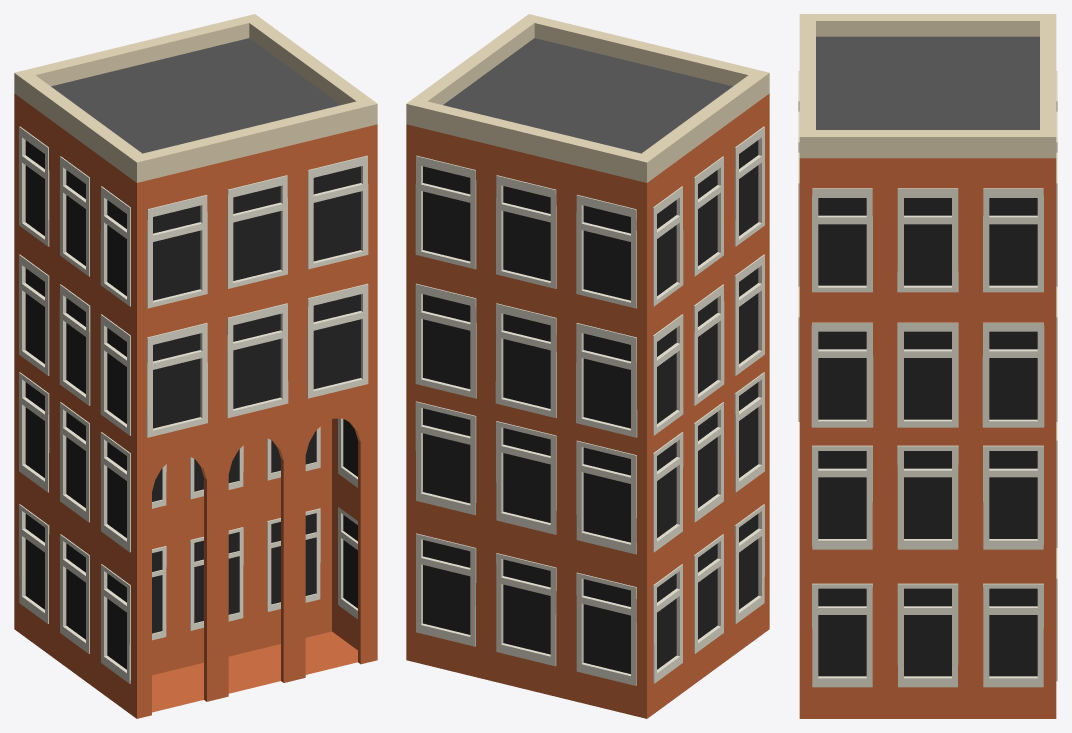
3 renders of one model, left to right at view 1: azimuth 30°, elevation 25°; view 2: azimuth 150°, elevation 25°; view 3: azimuth 270°, elevation 25°, orthographic. The views are drawn at different scales.
Visible parts, largest first — view 1: Palazzo1_struttura.001; view 2: Palazzo1_struttura.001; view 3: Palazzo1_struttura.001.
Part boxes in pixels (x1,y1,x2,y2): Palazzo1_struttura.001: (14, 14, 377, 718); Palazzo1_struttura.001: (406, 14, 769, 718); Palazzo1_struttura.001: (798, 14, 1057, 718).
Bounding box in the file's own units: 1451 × 3175 × 1282.
